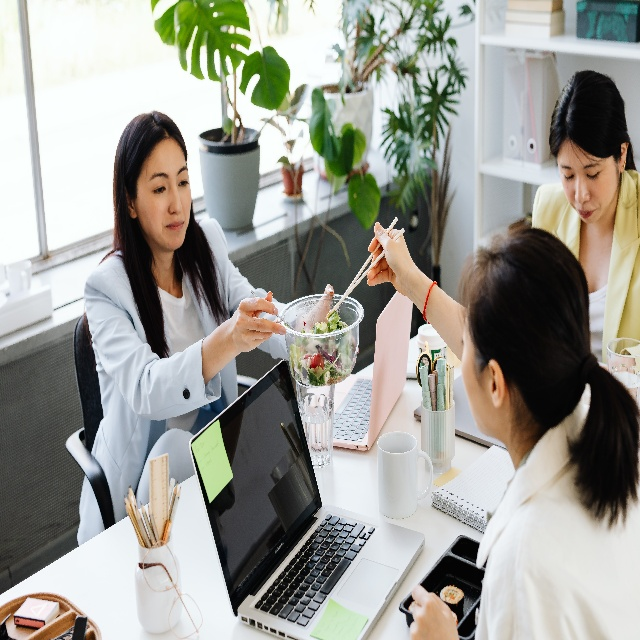Gafas: (138, 538, 203, 640)
Sin_guantes: (227, 289, 287, 352), (309, 283, 358, 356), (365, 220, 410, 296), (409, 583, 457, 640)
